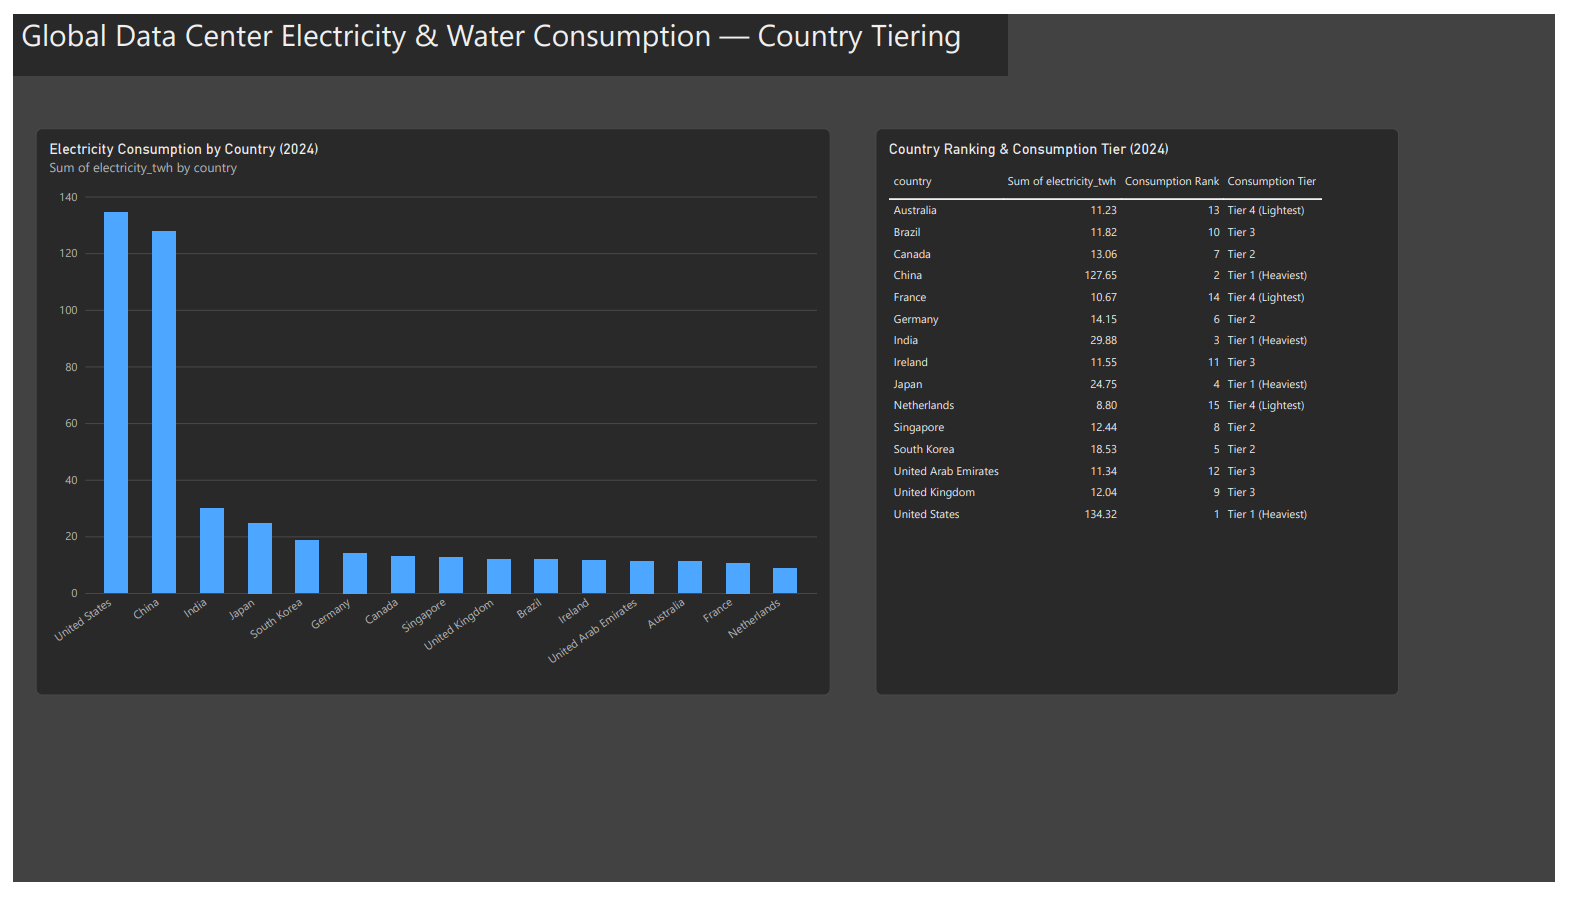

This screenshot's page, from the dashboard's own definition file:
{"tool":"powerbi","page":{"name":"Country Tiering","canvas":[1920,1080],"ordinal":1},"visuals":[{"type":"clusteredColumnChart","title":"Electricity Consumption by Country (2024)","fields":{"Category":["datacenter_clean.country"],"Y":["Sum(datacenter_clean.electricity_twh)"]},"box":[28.3,141.7,989.3,705.8],"z":0},{"type":"tableEx","title":"Country Ranking & Consumption Tier (2024)","fields":{"Values":["datacenter_clean.country","Sum(datacenter_clean.electricity_twh)","datacenter_clean.Consumption Rank","datacenter_clean.Consumption Tier"]},"box":[1074.3,141.7,652,705.8],"z":1000},{"type":"textbox","box":[0,0,1238.7,76.5],"z":1001}]}

Visuals, with their boxes in screenshot pixels (x1, y1, x2, y2), scaled from the page's 1920x1080 canvas onto the 1572x897 screenshot:
"Electricity Consumption by Country (2024)" clusteredColumnChart: (23, 118, 833, 704)
"Country Ranking & Consumption Tier (2024)" tableEx: (880, 118, 1413, 704)
textbox: (0, 0, 1014, 64)
